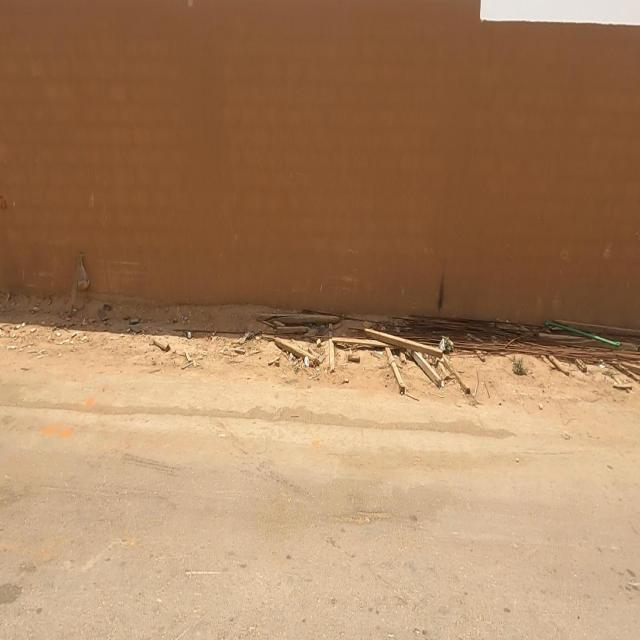debris: (290, 243, 539, 455), (206, 248, 388, 428), (450, 260, 640, 426), (120, 269, 224, 402), (61, 260, 158, 360)
